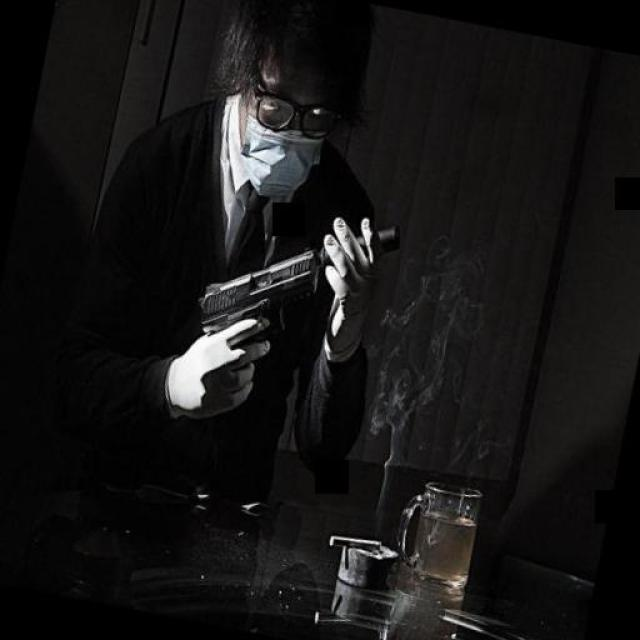gun: (184, 188, 404, 394)
